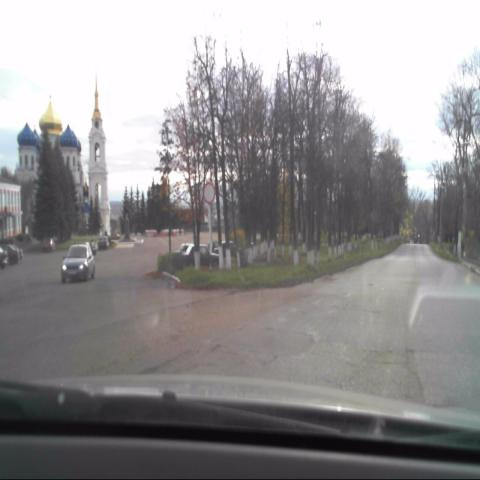3_2: (203, 183, 214, 204)
